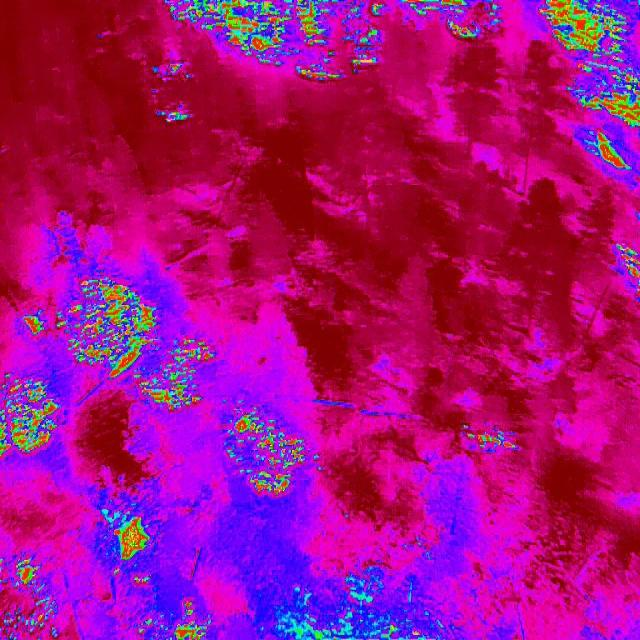fire: (153, 0, 380, 84), (58, 271, 162, 380), (215, 402, 322, 506), (259, 584, 444, 640), (139, 340, 224, 414), (537, 0, 640, 59), (11, 539, 65, 640), (1, 372, 64, 458), (572, 57, 640, 128), (94, 504, 164, 572), (402, 0, 505, 38), (585, 131, 636, 184), (159, 599, 216, 640), (608, 243, 640, 303), (20, 309, 54, 341)
